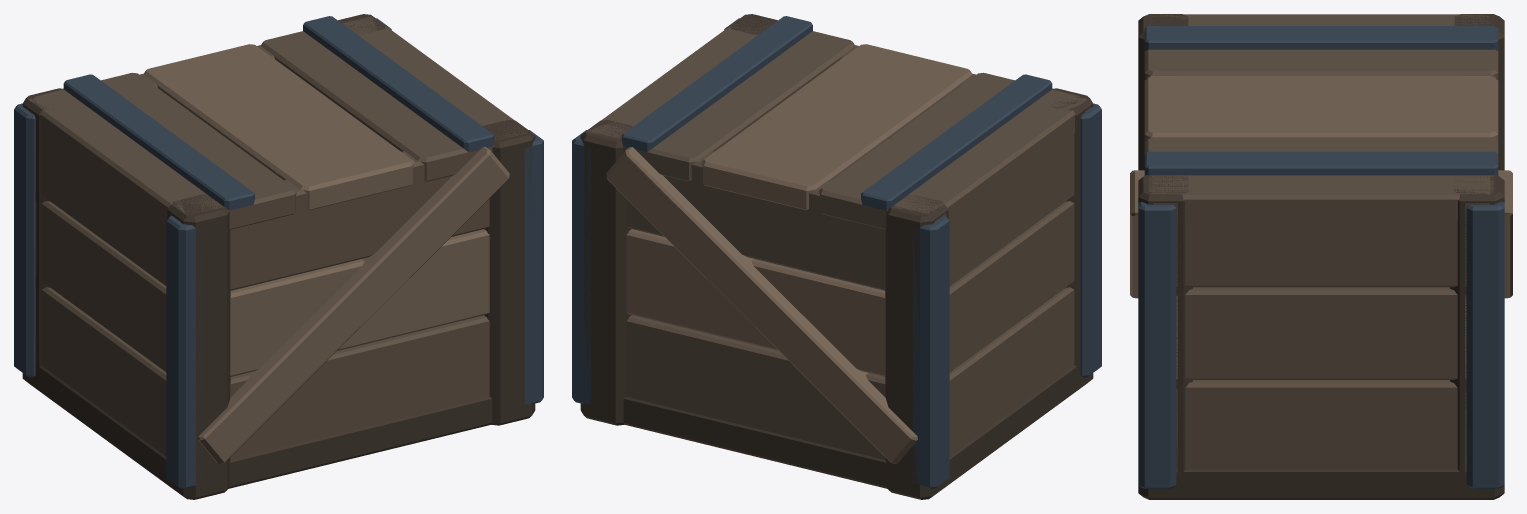
The model's file is reinforced-crate.glb.
The picture shows the model from 3 angles, left to right: view 1: azimuth 30°, elevation 25°; view 2: azimuth 150°, elevation 25°; view 3: azimuth 270°, elevation 25°; orthographic projection. The views are drawn at different scales.
Parts seen in each view (by area): view 1: reinforced-crate__body; view 2: reinforced-crate__body; view 3: reinforced-crate__body.
Boxes of the visible parts, bbox=[...] form: reinforced-crate__body: bbox=[14, 14, 543, 499]; reinforced-crate__body: bbox=[572, 14, 1101, 499]; reinforced-crate__body: bbox=[1130, 14, 1512, 499].
Bounding box in the file's own units: 0.54 × 0.411 × 0.455.
